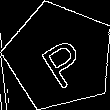P_NW: (29, 25, 90, 87)
